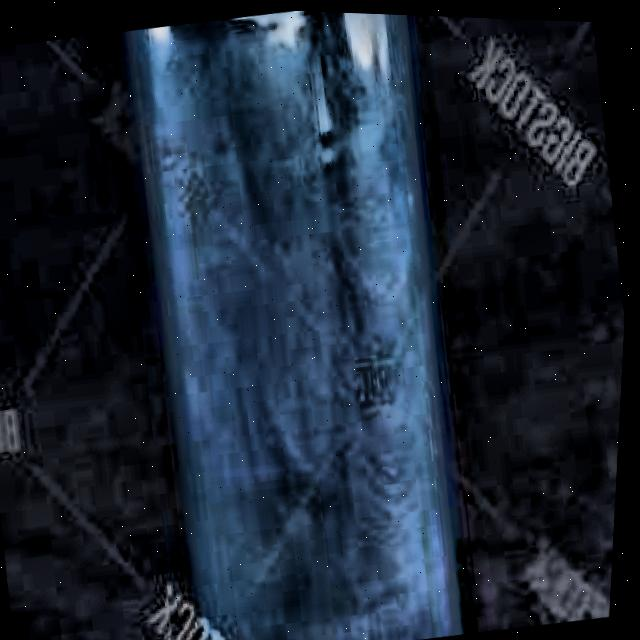metal: (96, 4, 516, 640)
